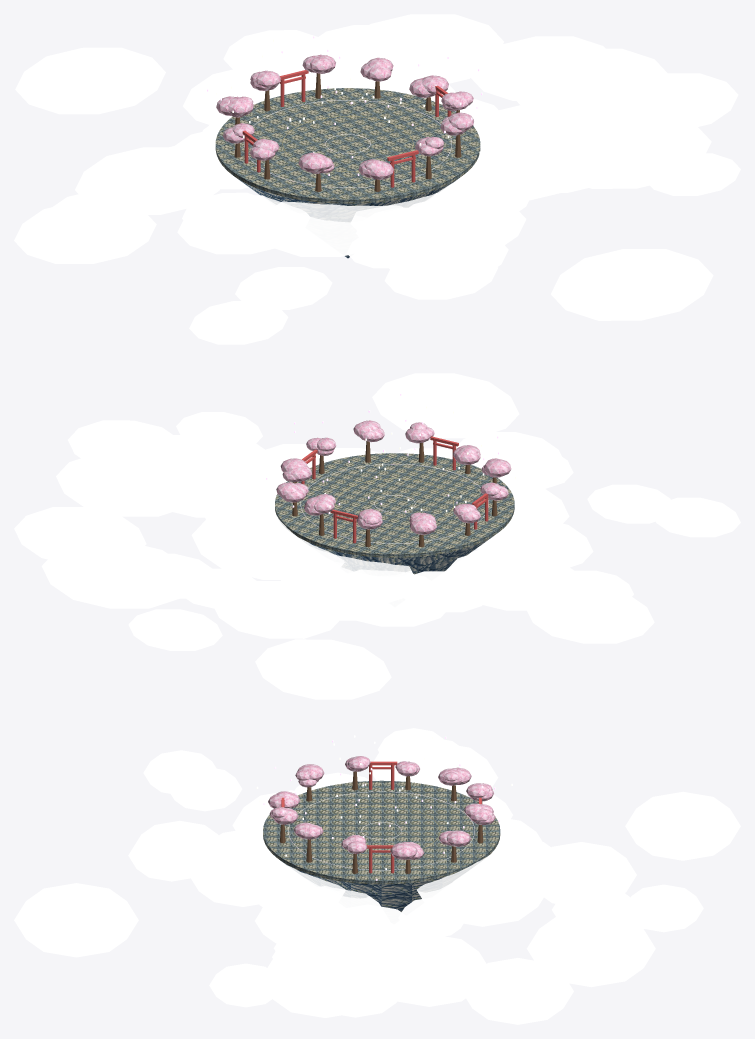
The model's file is arena_03_sky_sanctuary.glb.
3 views of the same model, one above another, from view 1: azimuth 30°, elevation 25°; view 2: azimuth 150°, elevation 25°; view 3: azimuth 270°, elevation 25° (orthographic). The views are drawn at different scales.
Parts seen in each view (by area): view 1: Batch_Mat_Cloud, Arena_Sky_Floor, Batch_Mat_LeafSakura, Batch_Mat_ToriiRed, Cone, Batch_Emit_Pink; view 2: Batch_Mat_Cloud, Arena_Sky_Floor, Batch_Mat_LeafSakura, Batch_Mat_ToriiRed, Cone, Batch_Emit_Pink; view 3: Batch_Mat_Cloud, Arena_Sky_Floor, Batch_Mat_LeafSakura, Cone, Batch_Mat_ToriiRed, Batch_Emit_Pink.
Boxes of the visible parts, bbox=[...] form: Batch_Mat_Cloud: bbox=[14, 14, 740, 344]; Arena_Sky_Floor: bbox=[215, 88, 480, 203]; Batch_Mat_LeafSakura: bbox=[216, 54, 473, 179]; Batch_Mat_ToriiRed: bbox=[234, 70, 461, 191]; Cone: bbox=[237, 178, 458, 258]; Batch_Emit_Pink: bbox=[207, 36, 482, 187]; Batch_Mat_Cloud: bbox=[14, 373, 740, 699]; Arena_Sky_Floor: bbox=[275, 453, 514, 557]; Batch_Mat_LeafSakura: bbox=[276, 420, 511, 534]; Batch_Mat_ToriiRed: bbox=[292, 436, 497, 547]; Cone: bbox=[301, 535, 494, 574]; Batch_Emit_Pink: bbox=[266, 393, 499, 543]; Batch_Mat_Cloud: bbox=[14, 728, 740, 1024]; Arena_Sky_Floor: bbox=[263, 780, 500, 884]; Batch_Mat_LeafSakura: bbox=[268, 756, 495, 859]; Cone: bbox=[280, 860, 470, 911]; Batch_Mat_ToriiRed: bbox=[280, 761, 483, 873]; Batch_Emit_Pink: bbox=[263, 736, 500, 880].
Size of the model in its own units: 757 by 192 by 796.
7 materials, 7 textured.
